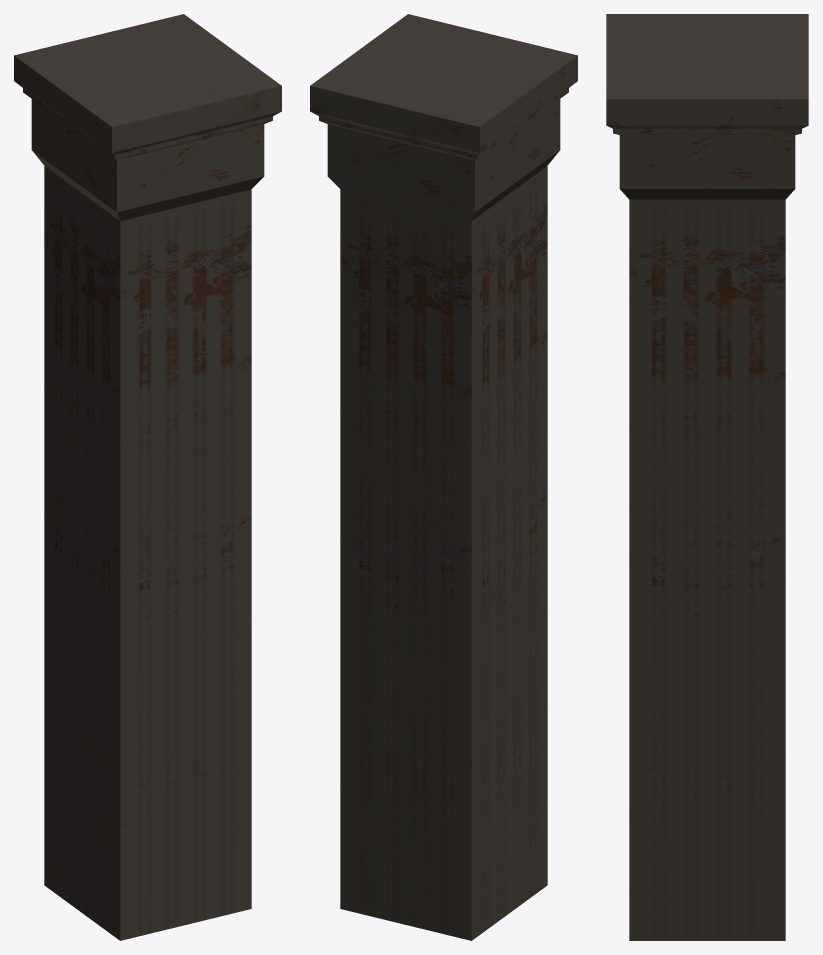
Rendered from Metal_Column_Top.gltf.
3 renders of one model, left to right at view 1: azimuth 30°, elevation 25°; view 2: azimuth 150°, elevation 25°; view 3: azimuth 270°, elevation 25°, orthographic. The views are drawn at different scales.
Visible parts, largest first — view 1: Metal_Column_Top; view 2: Metal_Column_Top; view 3: Metal_Column_Top.
Part boxes in pixels (x1,y1,x2,y2): Metal_Column_Top: [14, 14, 281, 940]; Metal_Column_Top: [310, 14, 577, 940]; Metal_Column_Top: [606, 14, 808, 940].
Size of the model in its own units: 0.6441 by 3 by 0.6446.
Materials: 1 (1 with a texture image).
